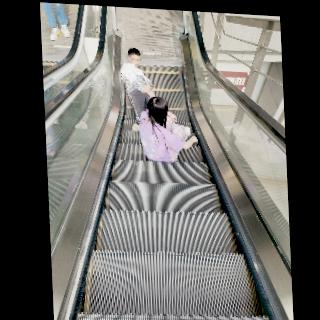anomaly: (135, 94, 203, 166), (115, 46, 162, 132)
normal: (41, 3, 77, 44)
